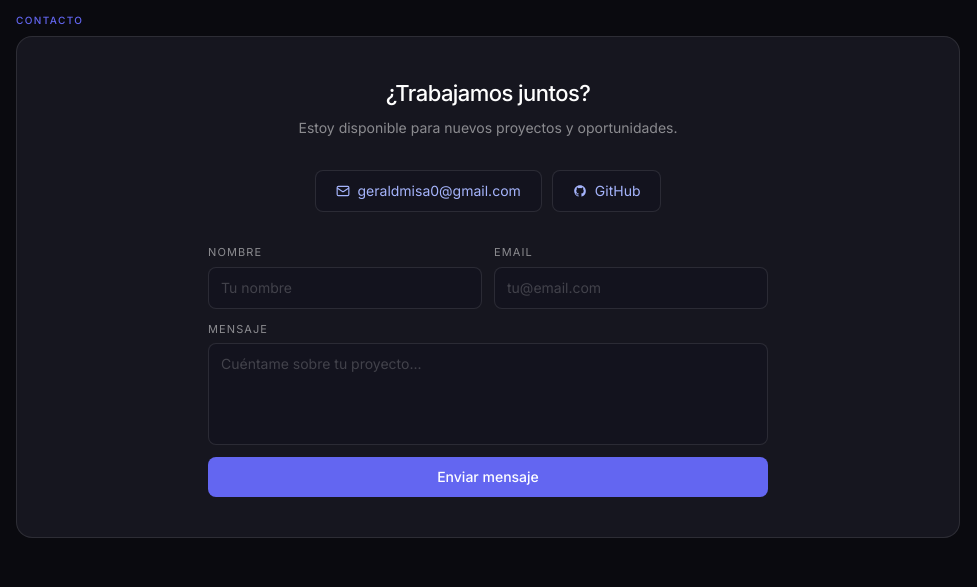
Test: Contact › muestra error cuando el servidor falla
The width and height of the screenshot is (977, 587).
Type "Gerald Misa" into the field with placeholder "Tu nombre".
click(345, 288); type("Gerald Misa")  # box [208,266,482,308]
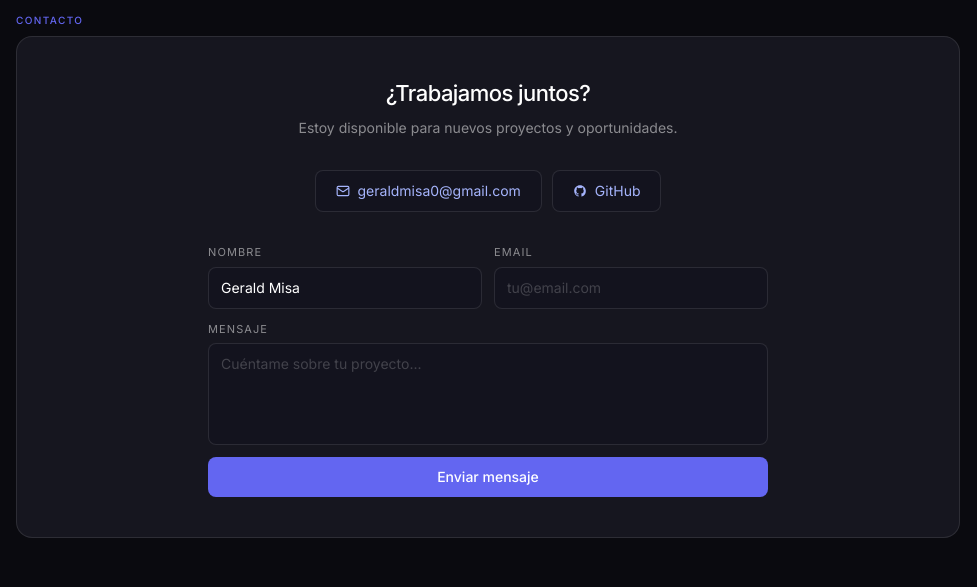
Type "gerald@test.com" into the field with placeholder "tu@email.com".
click(631, 288); type("gerald@test.com")  # box [494,266,768,308]
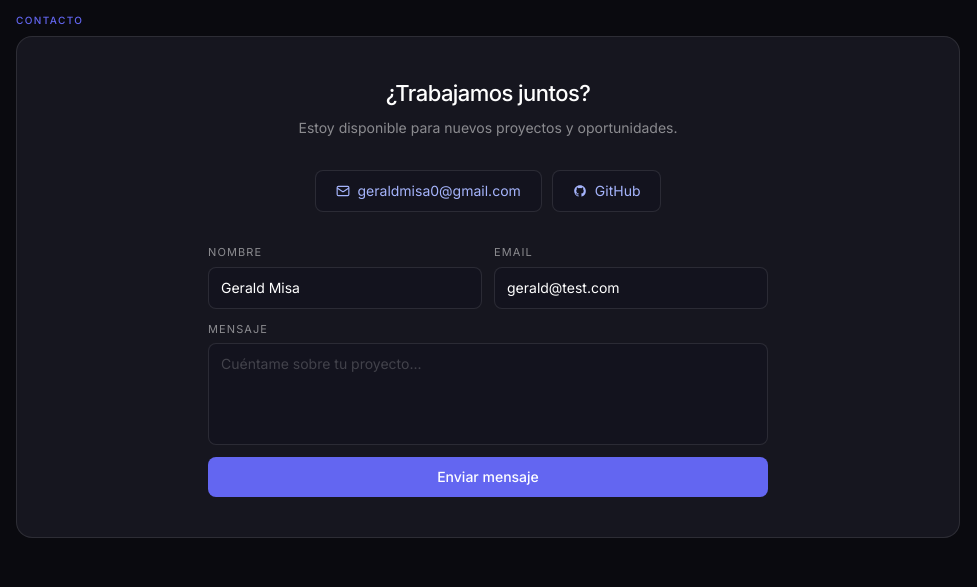
Type "Hola, me interesa trabajar contigo en un proyecto." into the text box with placeholder "Cuéntame sobre tu proyecto...".
click(488, 394); type("Hola, me interesa trabajar contigo en un proyecto.")  # box [208,343,768,445]
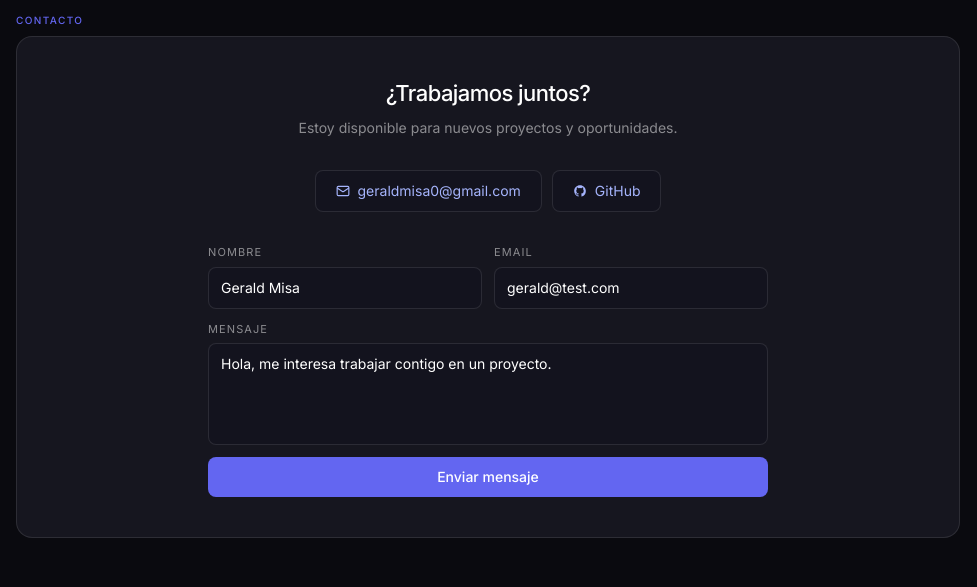
Click the button "Enviar mensaje".
click(488, 477)  # box [208,457,768,497]
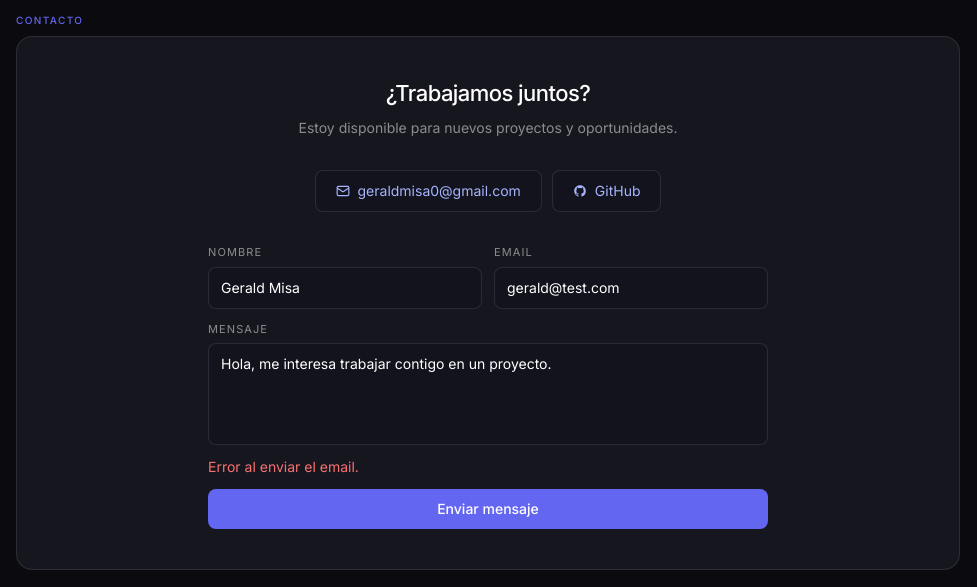
Check: the text "Error al enviar el email." is shown, box [208,458,359,475]
